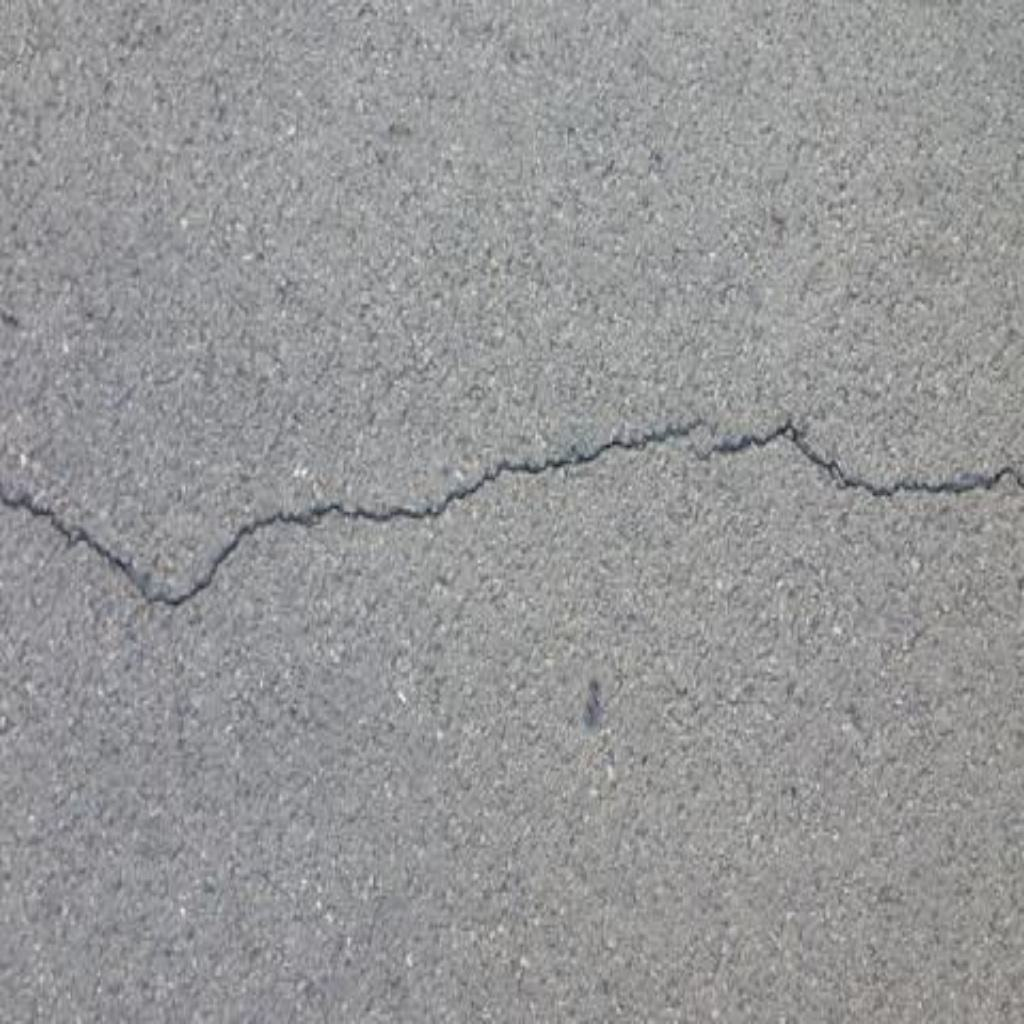Crack: (1, 416, 1024, 610)
